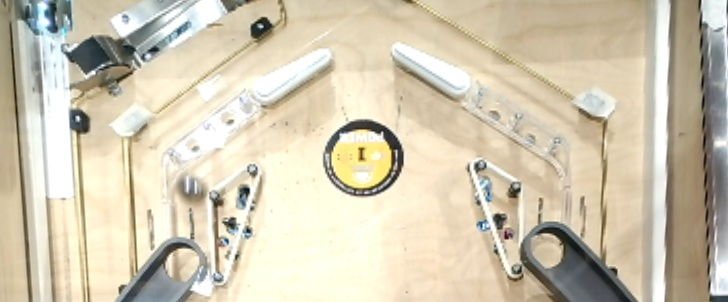ball: (173, 174, 207, 205)
flipper-left: (389, 39, 475, 105)
flipper-right: (252, 46, 337, 107)
